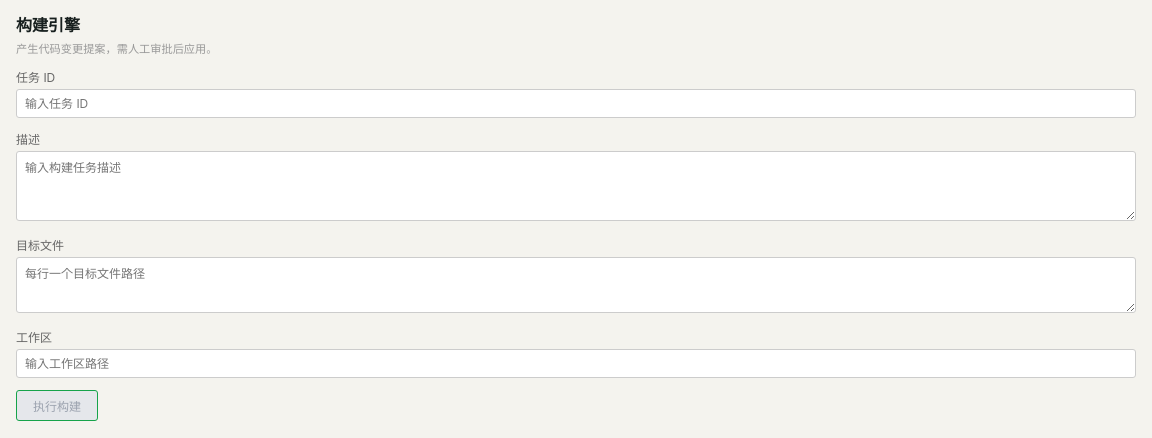
BuilderPanel › shows error state
In the field with placeholder "输入任务 ID": (576, 104) [16, 89, 1136, 118], type "t1"
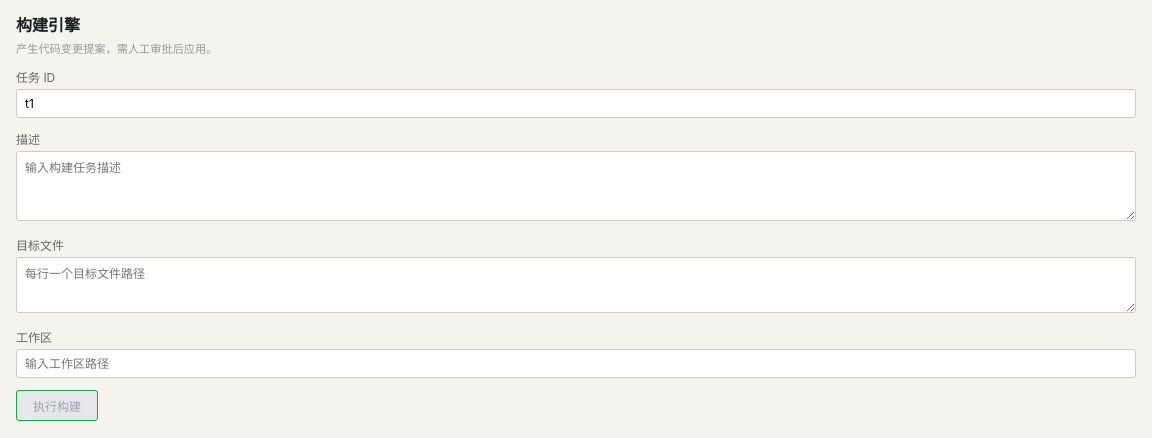
In the text box with placeholder "输入构建任务描述": (576, 186) [16, 151, 1136, 221], type "desc"
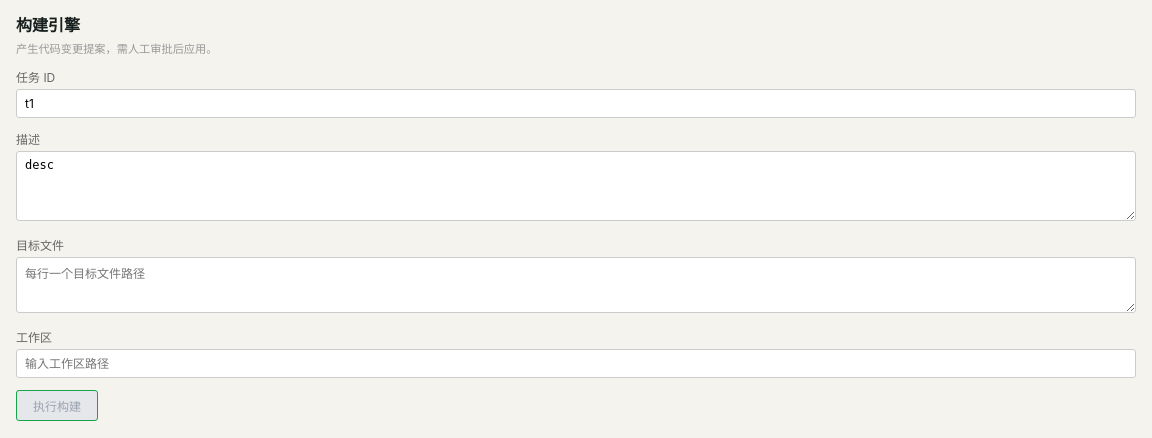
In the field with placeholder "输入工作区路径": (576, 364) [16, 349, 1136, 378], type "/ws"
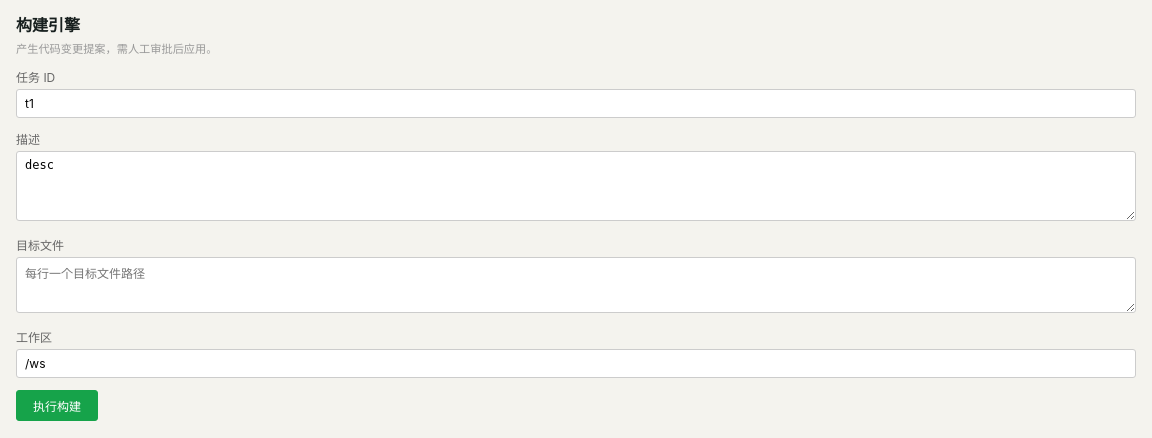
Click the button "执行构建": (57, 406) [16, 390, 98, 421]
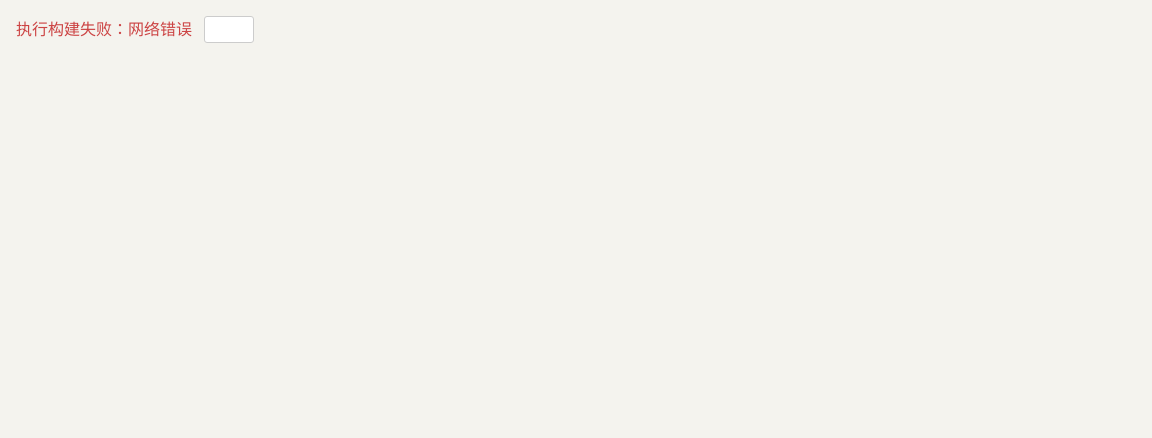
Check: the text "执行构建失败：网络错误 重试" is shown, box [16, 16, 254, 43]
